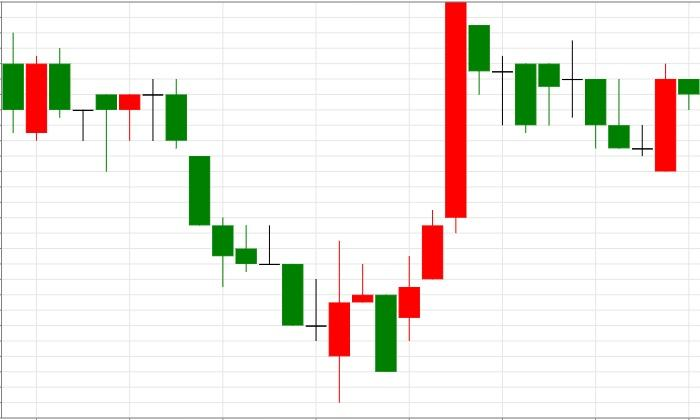three_white_soldiers_rise: (142, 2, 467, 403)
